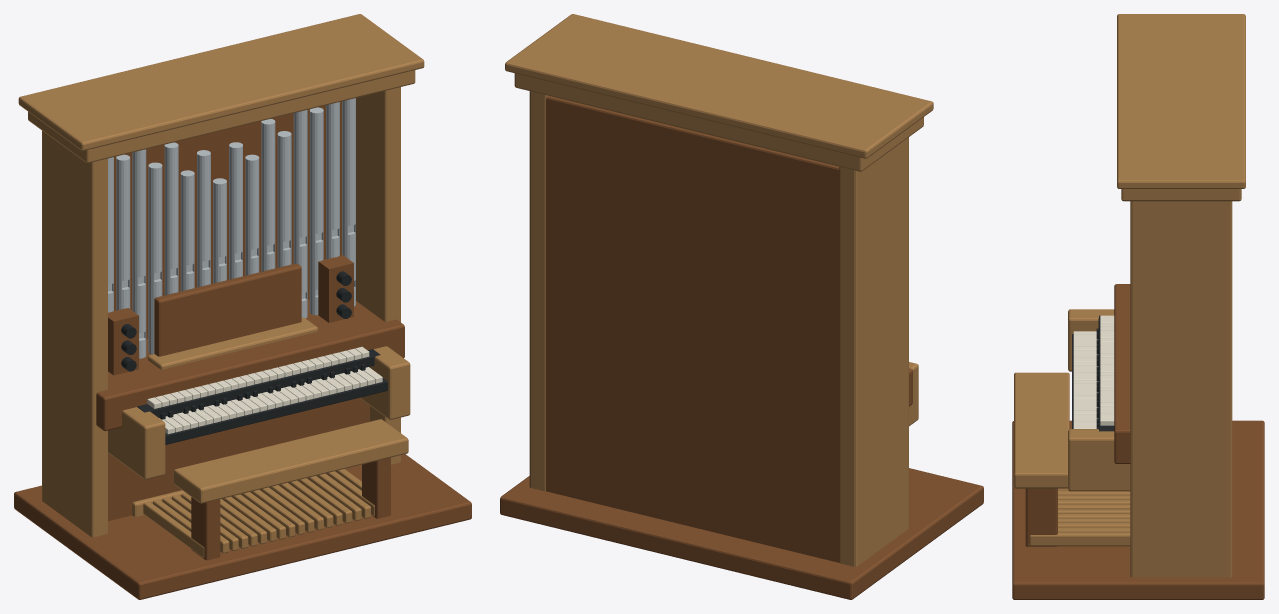
Rendered from NEW_RECOVERY_133_LOD0.glb.
The picture shows the model from 3 angles, left to right: view 1: azimuth 30°, elevation 25°; view 2: azimuth 150°, elevation 25°; view 3: azimuth 270°, elevation 25°; orthographic projection. The views are drawn at different scales.
Parts seen in each view (by area): view 1: Compact pipe organ static display; view 2: Compact pipe organ static display; view 3: Compact pipe organ static display.
Boxes of the visible parts, <box> form: Compact pipe organ static display: <box>14,14,471,599</box>; Compact pipe organ static display: <box>500,14,983,599</box>; Compact pipe organ static display: <box>1012,14,1264,599</box>.
Bounding box in the file's own units: 3.7 × 4.34 × 2.35.
